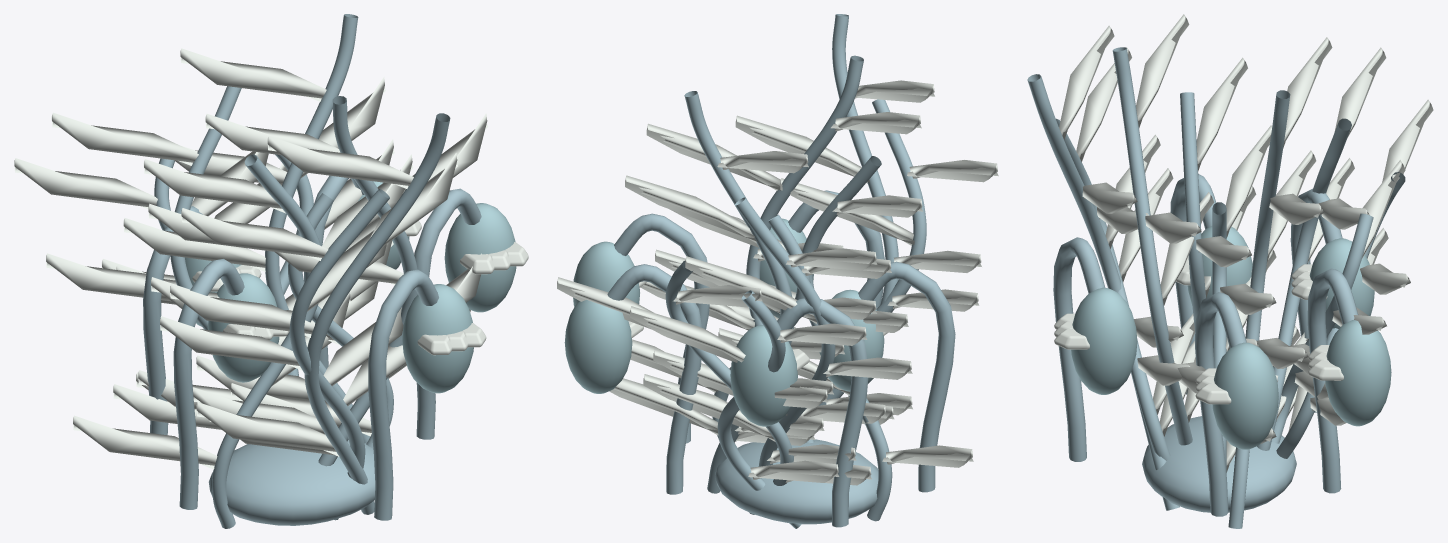
File: bio_aquatic_frond_13_near.glb
The picture shows the model from 3 angles, left to right: view 1: azimuth 30°, elevation 25°; view 2: azimuth 150°, elevation 25°; view 3: azimuth 270°, elevation 25°; orthographic projection. The views are drawn at different scales.
Parts seen in each view (by area): view 1: Ruffled aquatic blade.010, Holdfast, Ruffled aquatic blade.040, Ruffled aquatic blade.035, Ruffled aquatic blade.020, Ruffled aquatic blade.005, Ruffled aquatic blade.025, Flexible stipe.002, Arched fruit stem.002, Pendant spore capsule.002, Arched fruit stem.004, Ruffled aquatic blade.030 (+17 smaller); view 2: Ruffled aquatic blade.030, Ruffled aquatic blade.005, Holdfast, Ruffled aquatic blade.010, Ruffled aquatic blade.025, Ruffled aquatic blade.040, Ruffled aquatic blade.015, Pendant spore capsule.003, Ruffled aquatic blade.020, Ruffled aquatic blade.035, Arched fruit stem.004, Pendant spore capsule.001 (+17 smaller); view 3: Holdfast, Flexible stipe.005, Pendant spore capsule.002, Pendant spore capsule, Ruffled aquatic blade.010, Pendant spore capsule.003, Ruffled aquatic blade.035, Ruffled aquatic blade.025, Ruffled aquatic blade.040, Flexible stipe.008, Arched fruit stem.002, Arched fruit stem (+21 smaller).
Part boxes in pixels (<box>): Ruffled aquatic blade.010: <box>170,136,457,456</box>; Holdfast: <box>208,440,375,525</box>; Ruffled aquatic blade.040: <box>123,48,393,402</box>; Ruffled aquatic blade.035: <box>160,208,405,456</box>; Ruffled aquatic blade.020: <box>73,154,413,469</box>; Ruffled aquatic blade.005: <box>46,112,295,409</box>; Ruffled aquatic blade.025: <box>193,113,487,433</box>; Flexible stipe.002: <box>304,113,450,514</box>; Arched fruit stem.002: <box>368,269,438,520</box>; Pendant spore capsule.002: <box>402,284,473,393</box>; Arched fruit stem.004: <box>173,259,244,509</box>; Ruffled aquatic blade.030: <box>14,158,378,390</box>; Ruffled aquatic blade.030: <box>609,306,867,482</box>; Ruffled aquatic blade.005: <box>653,248,912,463</box>; Holdfast: <box>715,439,878,524</box>; Ruffled aquatic blade.010: <box>735,80,981,415</box>; Ruffled aquatic blade.025: <box>640,112,921,423</box>; Ruffled aquatic blade.040: <box>625,151,876,436</box>; Ruffled aquatic blade.015: <box>557,277,871,485</box>; Pendant spore capsule.003: <box>564,299,632,393</box>; Ruffled aquatic blade.020: <box>669,195,973,467</box>; Ruffled aquatic blade.035: <box>727,160,998,424</box>; Arched fruit stem.004: <box>858,261,955,492</box>; Pendant spore capsule.001: <box>730,325,797,426</box>; Holdfast: <box>1142,416,1296,512</box>; Flexible stipe.005: <box>1112,47,1192,445</box>; Pendant spore capsule.002: <box>1071,287,1137,394</box>; Pendant spore capsule: <box>1212,342,1278,449</box>; Ruffled aquatic blade.010: <box>1059,25,1194,414</box>; Pendant spore capsule.003: <box>1325,320,1391,426</box>; Ruffled aquatic blade.035: <box>1076,47,1195,436</box>; Ruffled aquatic blade.025: <box>1136,14,1213,422</box>; Ruffled aquatic blade.040: <box>1256,37,1332,381</box>; Flexible stipe.008: <box>1228,90,1290,528</box>; Arched fruit stem.002: <box>1053,237,1105,461</box>; Arched fruit stem: <box>1195,292,1246,516</box>.
Bounding box in the file's own units: 1.89 × 1.89 × 1.57.
